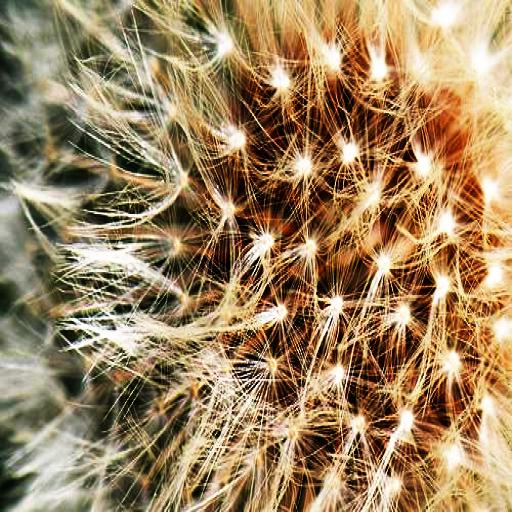dandelion: (2, 0, 512, 512)
